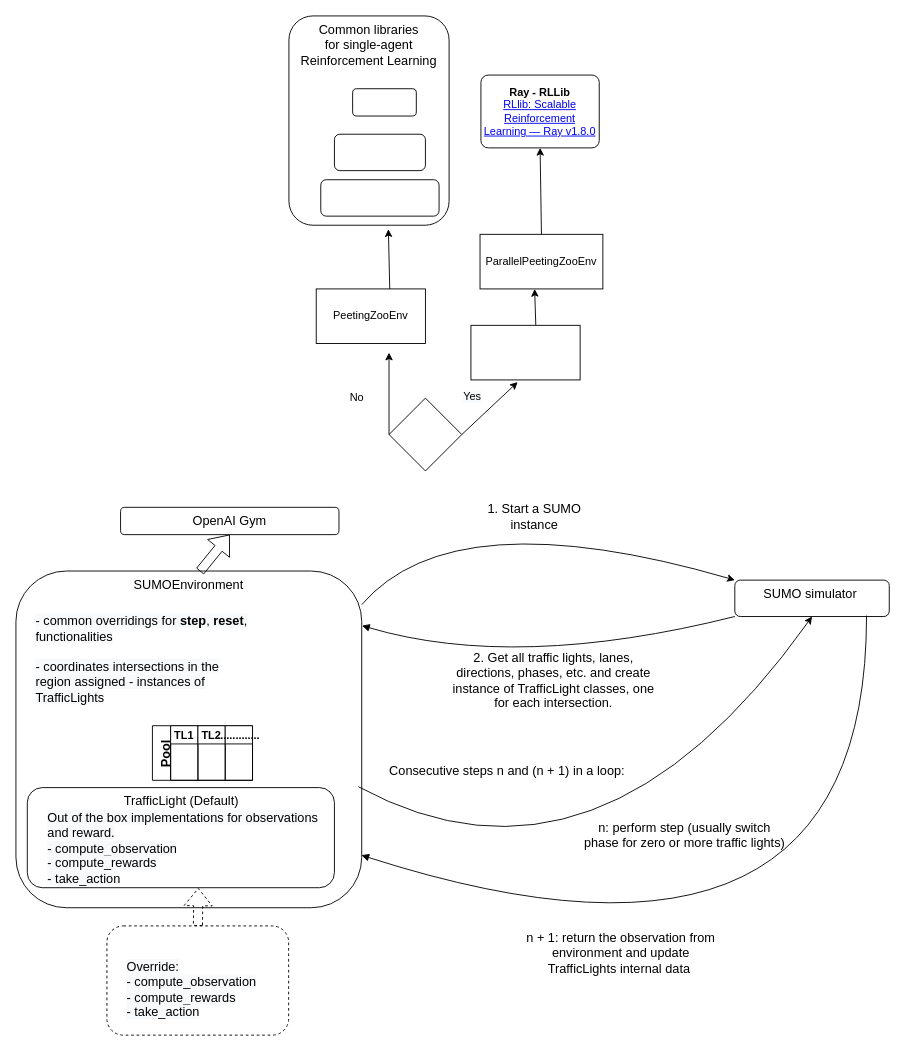
The diagram is 905 pixels wide and 1051 high, and some of its shapes have lost their labels. Each missing label, with the centre of its shape:
"Customized TrafficLight" goes at (197,980).
"OpenAI Baselines" goes at (379,197).
"PFRL" goes at (384,102).
"SuperSuit SuperSuit · PyPI" goes at (525,352).
"TFAgents" goes at (379,152).
"Use multi-agent ?" goes at (425,434).
